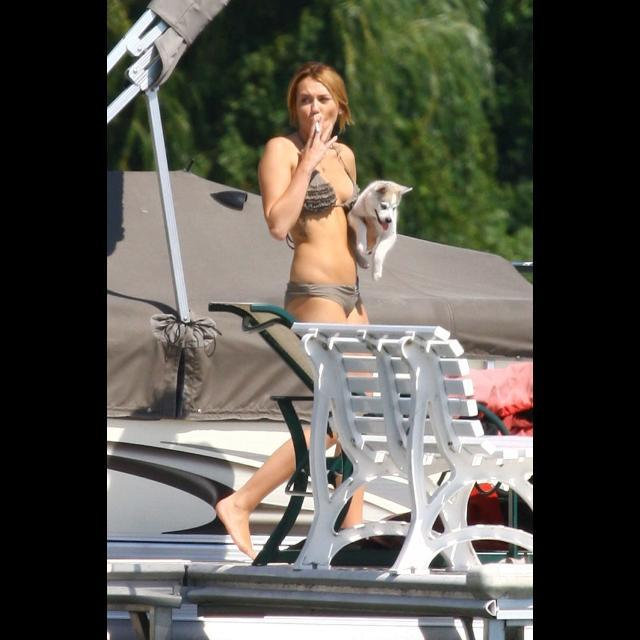rokok: (312, 119, 322, 137)
